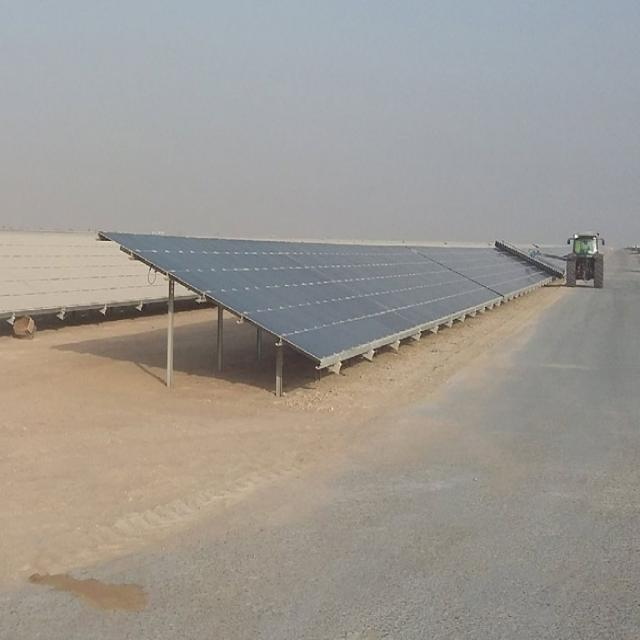dust-solar-panel: (0, 232, 194, 316)
